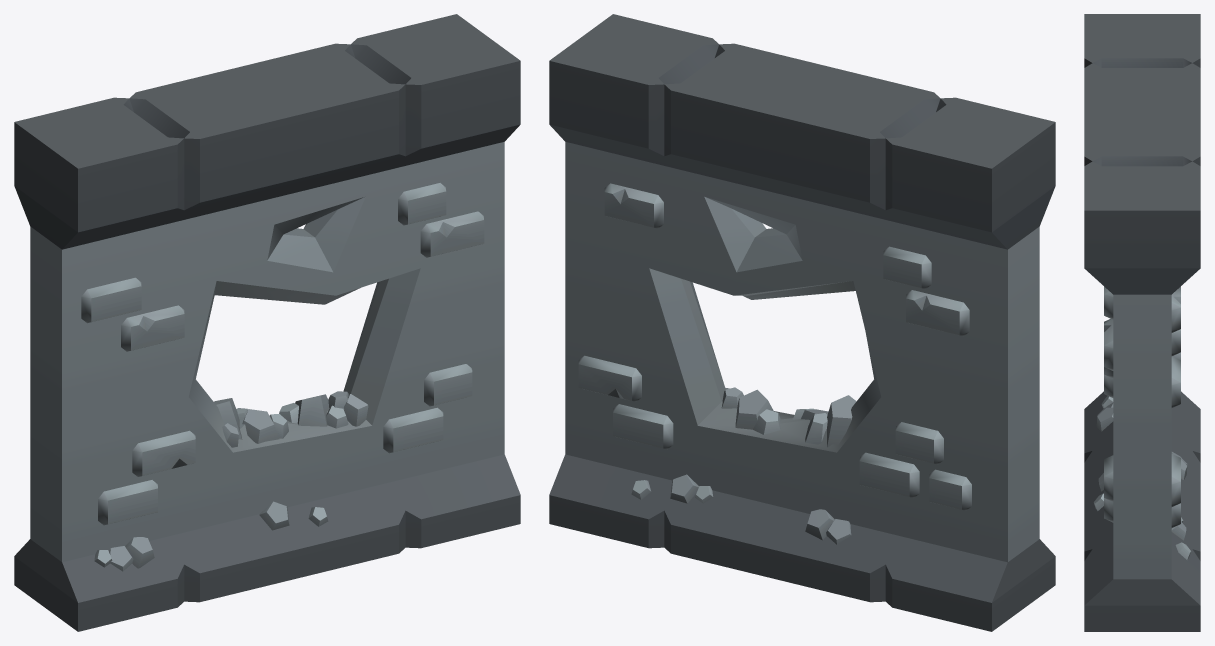
Rendered from wall_broken.glb.
3 renders of one model, left to right at view 1: azimuth 30°, elevation 25°; view 2: azimuth 150°, elevation 25°; view 3: azimuth 270°, elevation 25°, orthographic. The views are drawn at different scales.
Parts seen in each view (by area): view 1: wall_broken; view 2: wall_broken; view 3: wall_broken.
Boxes of the visible parts, bbox=[...] form: wall_broken: bbox=[14, 14, 520, 631]; wall_broken: bbox=[549, 14, 1055, 631]; wall_broken: bbox=[1084, 14, 1200, 631].
Bounding box in the file's own units: 4 × 4 × 1.
1 material, 1 textured.
